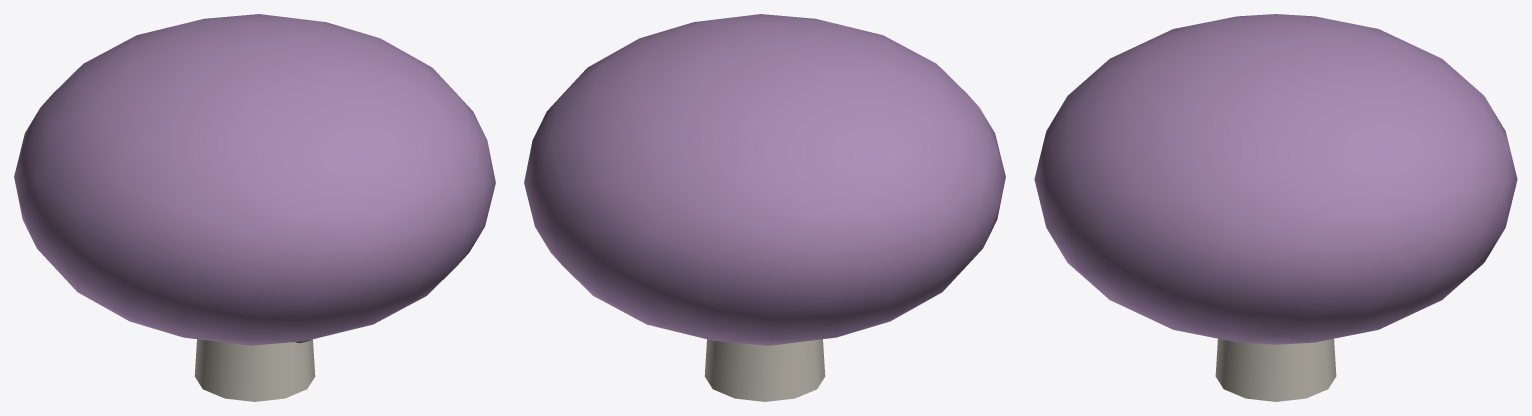
File: stereum-gausapatum.glb
3 views of the same model, side by side, from view 1: azimuth 30°, elevation 25°; view 2: azimuth 150°, elevation 25°; view 3: azimuth 270°, elevation 25° (orthographic).
Parts seen in each view (by area): view 1: cap, stalk; view 2: cap, stalk; view 3: cap, stalk.
Boxes of the visible parts, x1,y1,x2,y2 form: cap: (14,14,495,345); stalk: (194,339,315,401); cap: (524,14,1005,345); stalk: (704,339,825,401); cap: (1034,14,1517,344); stalk: (1215,338,1336,401).
Bounding box in the file's own units: 0.4 × 0.3 × 0.4.
